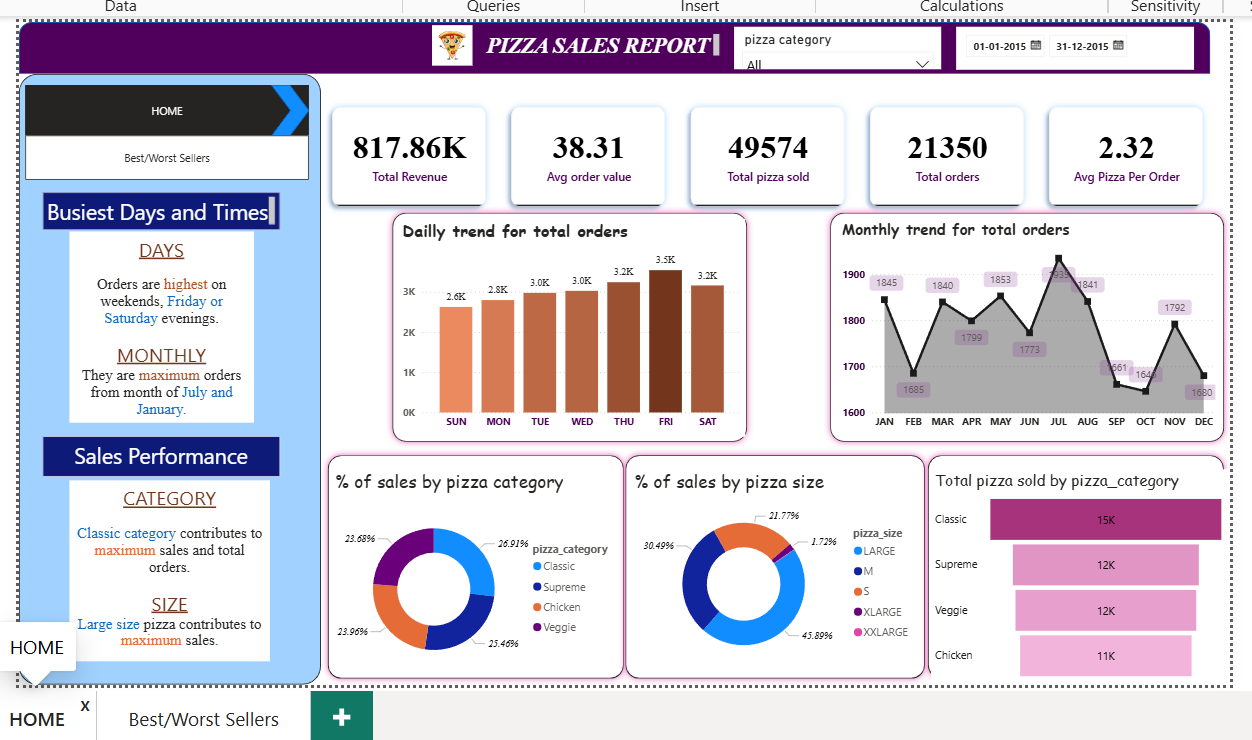

Layout of this report page (visuals, bound fields, positions):
{"tool":"powerbi","page":{"name":"HOME","canvas":[1500,820],"ordinal":0},"visuals":[{"type":"cardVisual","fields":{"Data":["pizza_sales_excel_file.Total Revenue","pizza_sales_excel_file.Avg order value","pizza_sales_excel_file.Total pizza sold","pizza_sales_excel_file.Total orders","pizza_sales_excel_file.Avg Pizza Per Order"]},"box":[359.5,75.6,1140,181.2],"z":0},{"type":"shape","box":[0,0,1475.2,64.2],"z":1000},{"type":"textbox","box":[569.3,10,302.5,38.5],"z":2000},{"type":"textbox","box":[655.3,76.1,154.1,39],"z":3000},{"type":"image","box":[502.2,4.3,67.1,49.9],"z":4000},{"type":"shape","box":[455.1,228.3,455.1,299.6],"z":5000},{"type":"columnChart","title":"Dailly trend for total orders","fields":{"Category":["pizza_sales_excel_file.ORDER DAY"],"Y":["pizza_sales_excel_file.Total orders"]},"box":[469.4,244,429.4,269.7],"z":6000},{"type":"shape","box":[995.9,228.3,503.6,299.6],"z":7000},{"type":"areaChart","title":"Monthly trend for total orders","fields":{"Category":["pizza_sales_excel_file.ORDER MONTH"],"Y":["pizza_sales_excel_file.Total orders"]},"box":[1014.4,244,472.2,269.7],"z":8000},{"type":"slicer","fields":{"Values":["pizza_sales_excel_file.pizza_category"]},"box":[886,5.7,256.8,52.8],"z":9000},{"type":"shape","box":[373.8,527.9,382.4,292.5],"z":10000},{"type":"shape","box":[743.3,527.9,386.6,292.5],"z":11000},{"type":"shape","box":[1117.1,527.9,382.4,292.5],"z":12000},{"type":"donutChart","title":"% of sales by pizza category","fields":{"Category":["pizza_sales_excel_file.pizza_category"],"Y":["pizza_sales_excel_file.Total Revenue"]},"box":[386.6,553.6,363.8,266.8],"z":13000},{"type":"donutChart","title":"% of sales by pizza size","fields":{"Y":["pizza_sales_excel_file.Total Revenue"],"Category":["pizza_sales_excel_file.pizza_size"]},"box":[756.2,553.6,361,254],"z":14000},{"type":"funnel","fields":{"Category":["pizza_sales_excel_file.pizza_category"],"Y":["pizza_sales_excel_file.Total pizza sold"]},"box":[1130,553.6,369.5,266.8],"z":15000},{"type":"shape","box":[0,64.2,373.8,756.2],"z":16000},{"type":"textbox","box":[30,209.7,293.9,47.1],"z":17000},{"type":"textbox","box":[62.8,259.7,228.3,236.8],"z":18000},{"type":"textbox","box":[30,513.6,293.9,49.9],"z":19000},{"type":"textbox","box":[62.8,567.8,248.3,224],"z":20000},{"type":"slicer","fields":{"Values":["pizza_sales_excel_file.order_date"]},"box":[1159.5,5.9,294.3,53.3],"z":21000},{"type":"pageNavigator","box":[7.9,77,351.6,63.2],"z":22000},{"type":"pageNavigator","box":[7.9,140.3,351.6,55.3],"z":23000},{"type":"shape","box":[312.1,77,47.4,63.2],"z":24000}]}

Visuals, with their boxes on the page's 1500x820 design canvas (x1, y1, x2, y2). These are canvas units, not pixel positions in the 1252x740 screenshot, which may show the page scaled, cropped or inside an application window:
cardVisual - pizza_sales_excel_file.Total Revenue x pizza_sales_excel_file.Avg order value: [360, 76, 1500, 257]
shape: [0, 0, 1475, 64]
textbox: [569, 10, 872, 48]
textbox: [655, 76, 809, 115]
image: [502, 4, 569, 54]
shape: [455, 228, 910, 528]
"Dailly trend for total orders" columnChart: [469, 244, 899, 514]
shape: [996, 228, 1500, 528]
"Monthly trend for total orders" areaChart: [1014, 244, 1487, 514]
slicer - pizza_sales_excel_file.pizza_category: [886, 6, 1143, 58]
shape: [374, 528, 756, 820]
shape: [743, 528, 1130, 820]
shape: [1117, 528, 1500, 820]
"% of sales by pizza category" donutChart: [387, 554, 750, 820]
"% of sales by pizza size" donutChart: [756, 554, 1117, 808]
funnel - pizza_sales_excel_file.pizza_category x pizza_sales_excel_file.Total pizza sold: [1130, 554, 1500, 820]
shape: [0, 64, 374, 820]
textbox: [30, 210, 324, 257]
textbox: [63, 260, 291, 496]
textbox: [30, 514, 324, 564]
textbox: [63, 568, 311, 792]
slicer - pizza_sales_excel_file.order_date: [1160, 6, 1454, 59]
pageNavigator: [8, 77, 360, 140]
pageNavigator: [8, 140, 360, 196]
shape: [312, 77, 360, 140]
